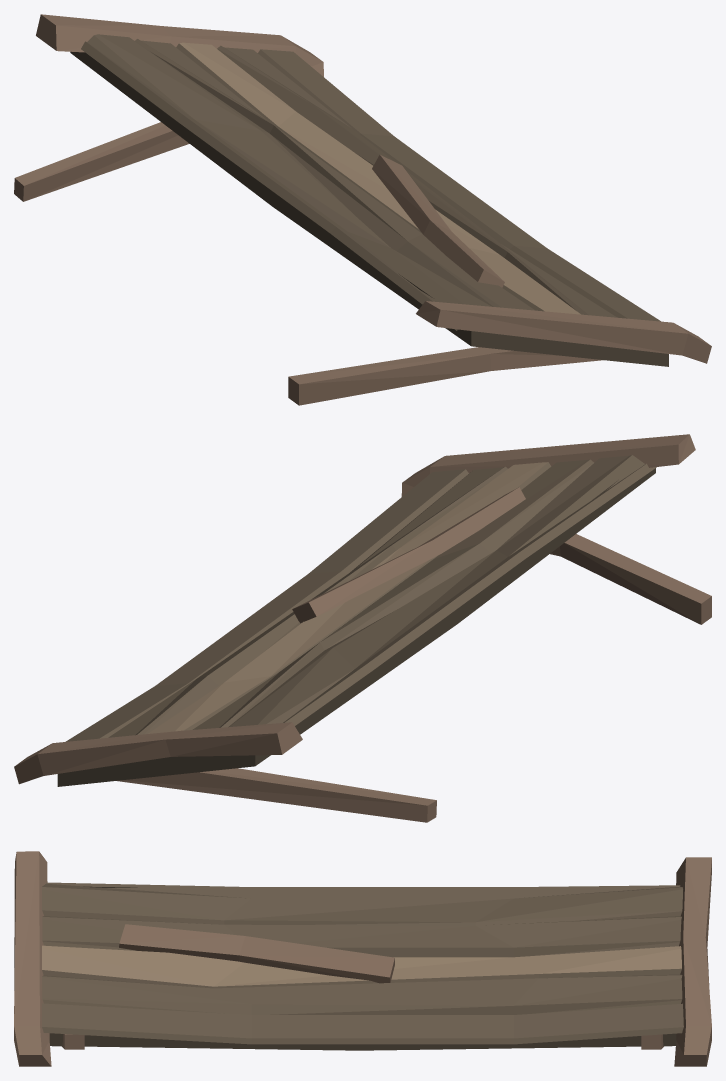
The model's file is SM_Bld_Shanty_Roof_05.glb.
The picture shows the model from 3 angles, top to bottom: view 1: azimuth 30°, elevation 25°; view 2: azimuth 150°, elevation 25°; view 3: azimuth 270°, elevation 25°; orthographic projection. The views are drawn at different scales.
Visible parts, largest first — view 1: SM_Bld_Shanty_Roof_05_part00; view 2: SM_Bld_Shanty_Roof_05_part00; view 3: SM_Bld_Shanty_Roof_05_part00.
Part boxes in pixels (x1=…): SM_Bld_Shanty_Roof_05_part00: x1=14, y1=14, x2=711, y2=405; SM_Bld_Shanty_Roof_05_part00: x1=14, y1=434, x2=711, y2=822; SM_Bld_Shanty_Roof_05_part00: x1=14, y1=851, x2=711, y2=1066.
Bounding box in the file's own units: 2.71 × 0.8807 × 5.4.
Materials: 1 (1 with a texture image).
